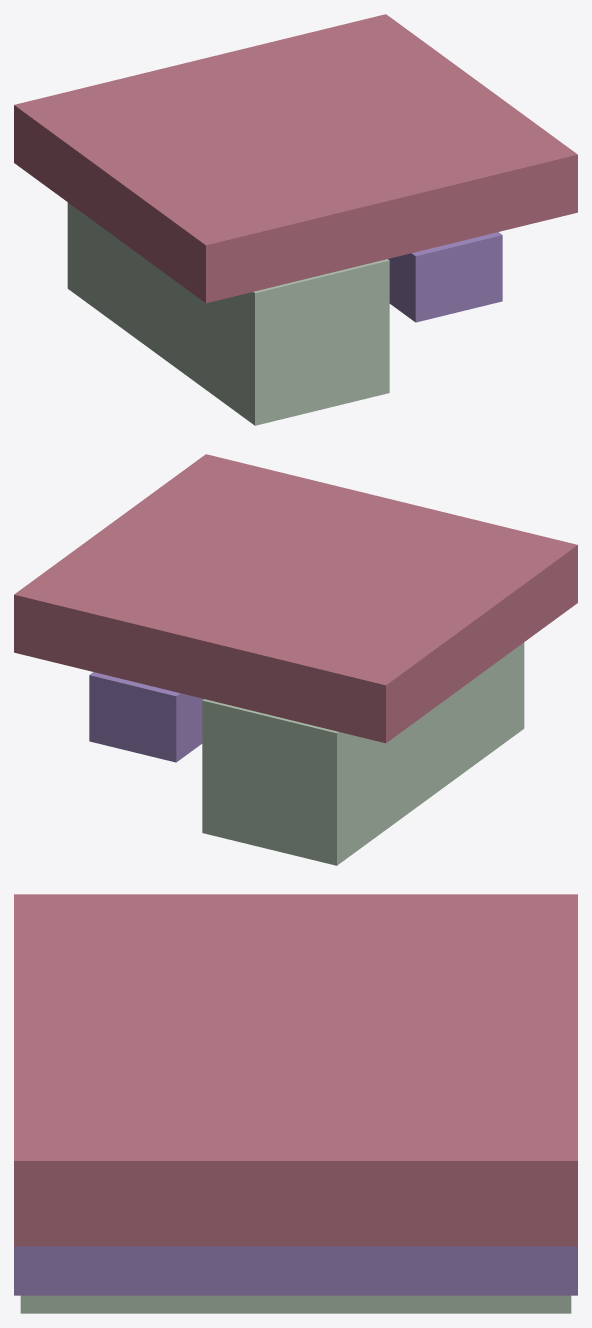
3 renders of one model, top to bottom at view 1: azimuth 30°, elevation 25°; view 2: azimuth 150°, elevation 25°; view 3: azimuth 270°, elevation 25°, orthographic. The views are drawn at different scales.
Parts seen in each view (by area): view 1: world; view 2: world; view 3: world.
Part boxes in pixels (<box>): world: <box>14,14,577,425</box>; world: <box>14,454,577,865</box>; world: <box>14,894,577,1313</box>.
Size of the model in its own units: 4.7 by 2.35 by 4.2.
